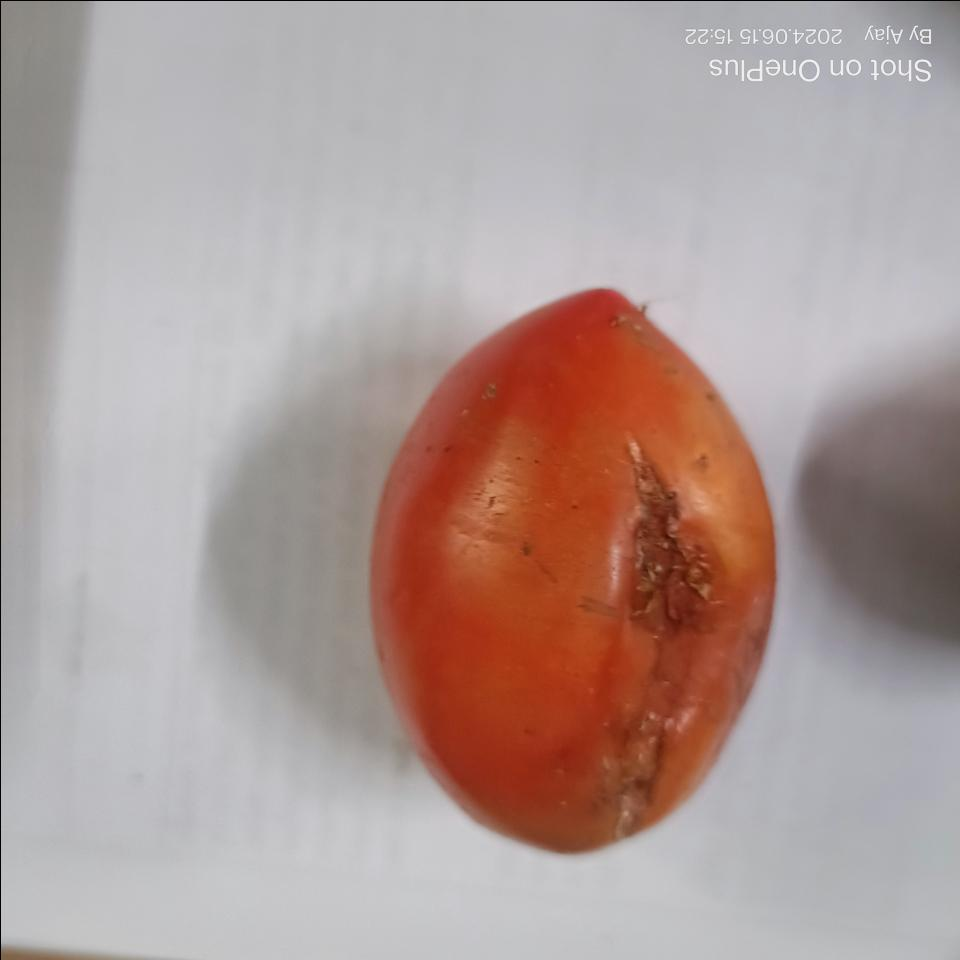Cracking: (608, 452, 720, 842)
